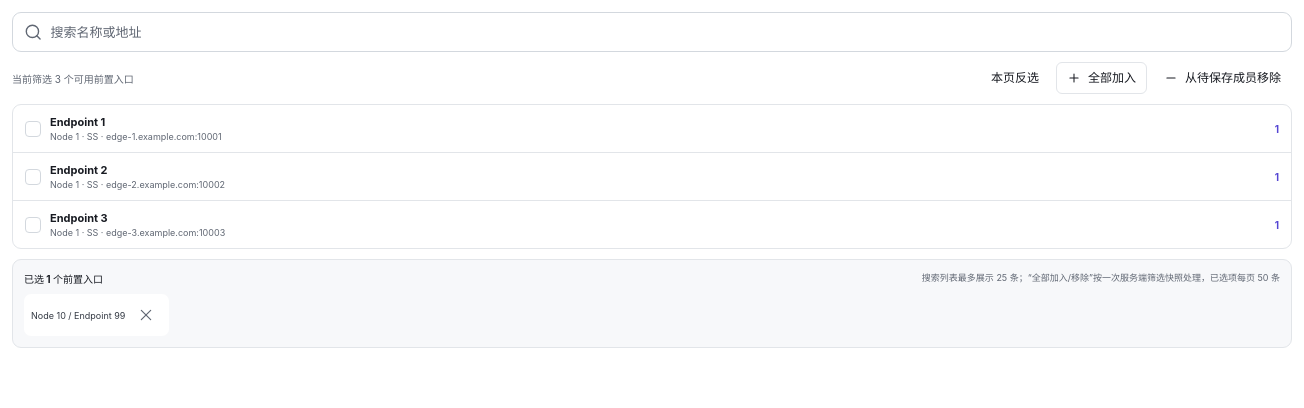
Test case: EndpointMultiLookup › uses the forward identity scope for both selected hydration and bulk selection
Step 1. Click the button "全部加入" → [1102, 78], box [1056,62,1147,94]
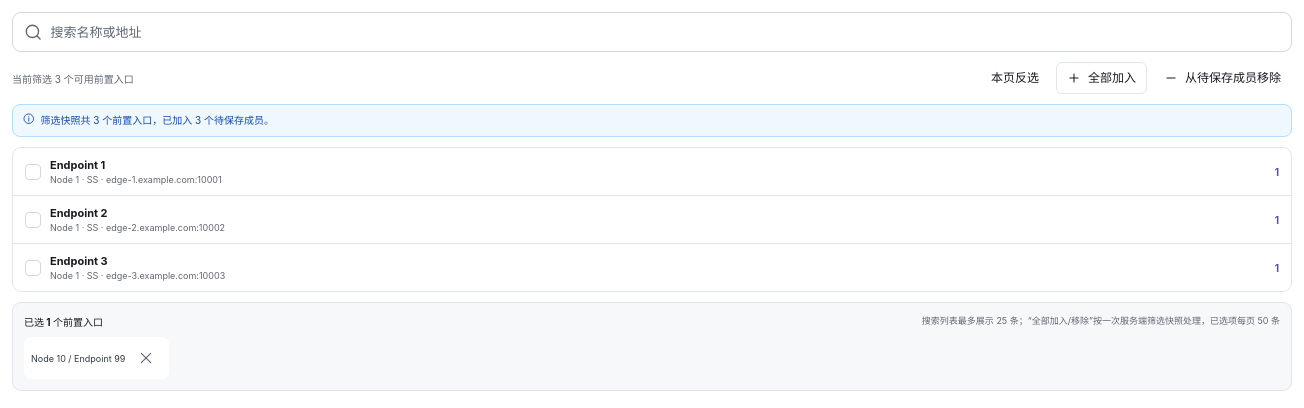
expect the text "3 个前置入口" is shown: met, box [40,114,274,126]
